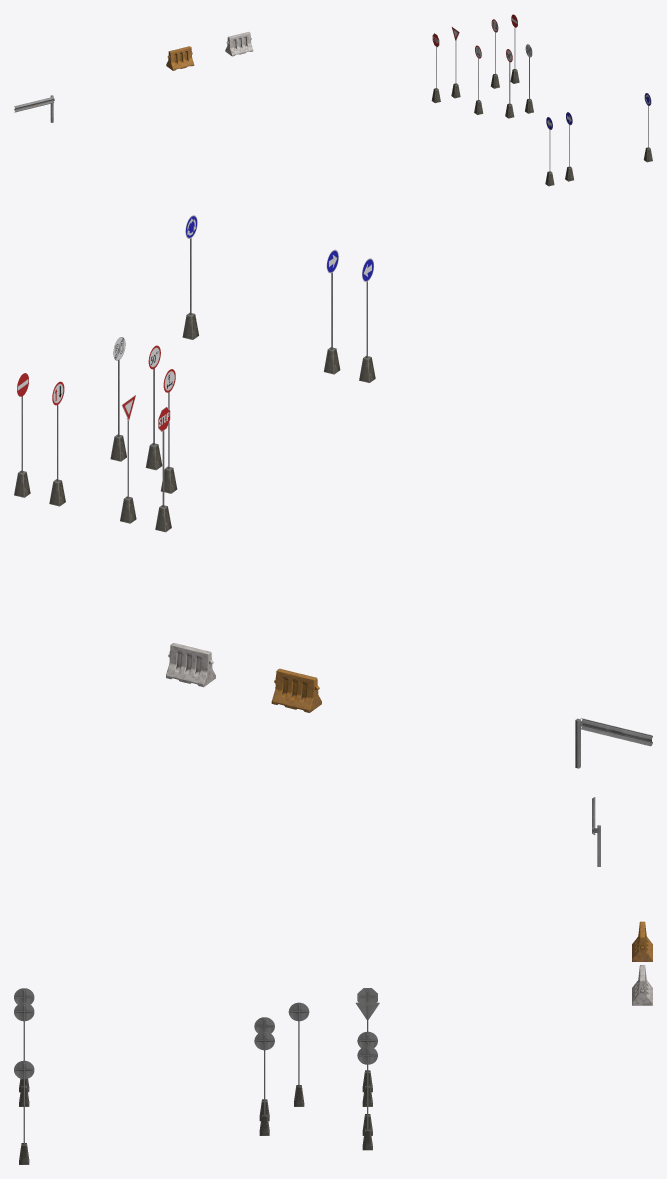
File: signs.glb
3 renders of one model, top to bottom at view 1: azimuth 30°, elevation 25°; view 2: azimuth 150°, elevation 25°; view 3: azimuth 270°, elevation 25°, orthographic. The views are drawn at different scales.
Parts seen in each view (by area): view 1: PVCBarriersA_Rambu_0, PVCBarriersB_Rambu_0, Railing2m_Railing_0; view 2: PVCBarriersA_Rambu_0, PVCBarriersB_Rambu_0, Railing2m_Railing_0; view 3: Rambu Prohibition_A5_Rambu_0, Rambu Prohibition_C2_Rambu_0, Rambu Prohibition_D4_Rambu_0, CommandSigns_A6_Rambu_0, PVCBarriersB_Rambu_0, PVCBarriersA_Rambu_0, CommandSigns_A2_Rambu_0.
Part boxes in pixels (left/top/right/bottom): PVCBarriersA_Rambu_0: left=166, top=46, right=194, bottom=70; PVCBarriersB_Rambu_0: left=225, top=32, right=253, bottom=56; Railing2m_Railing_0: left=14, top=95, right=54, bottom=122; PVCBarriersA_Rambu_0: left=271, top=668, right=321, bottom=712; PVCBarriersB_Rambu_0: left=166, top=643, right=215, bottom=687; Railing2m_Railing_0: left=575, top=718, right=652, bottom=768; Rambu Prohibition_A5_Rambu_0: left=357, top=1046, right=377, bottom=1150; Rambu Prohibition_C2_Rambu_0: left=288, top=1002, right=309, bottom=1106; Rambu Prohibition_D4_Rambu_0: left=254, top=1031, right=274, bottom=1135; CommandSigns_A6_Rambu_0: left=14, top=1060, right=34, bottom=1164; PVCBarriersB_Rambu_0: left=632, top=965, right=652, bottom=1005; PVCBarriersA_Rambu_0: left=632, top=921, right=652, bottom=961; CommandSigns_A2_Rambu_0: left=14, top=1002, right=34, bottom=1106.
Size of the model in its own units: 22.78 by 3.36 by 18.6.
Materials: 6 (6 with a texture image).
